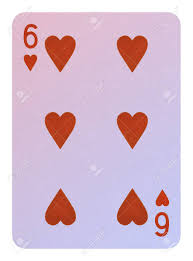six of hearts: (11, 12, 181, 248)
